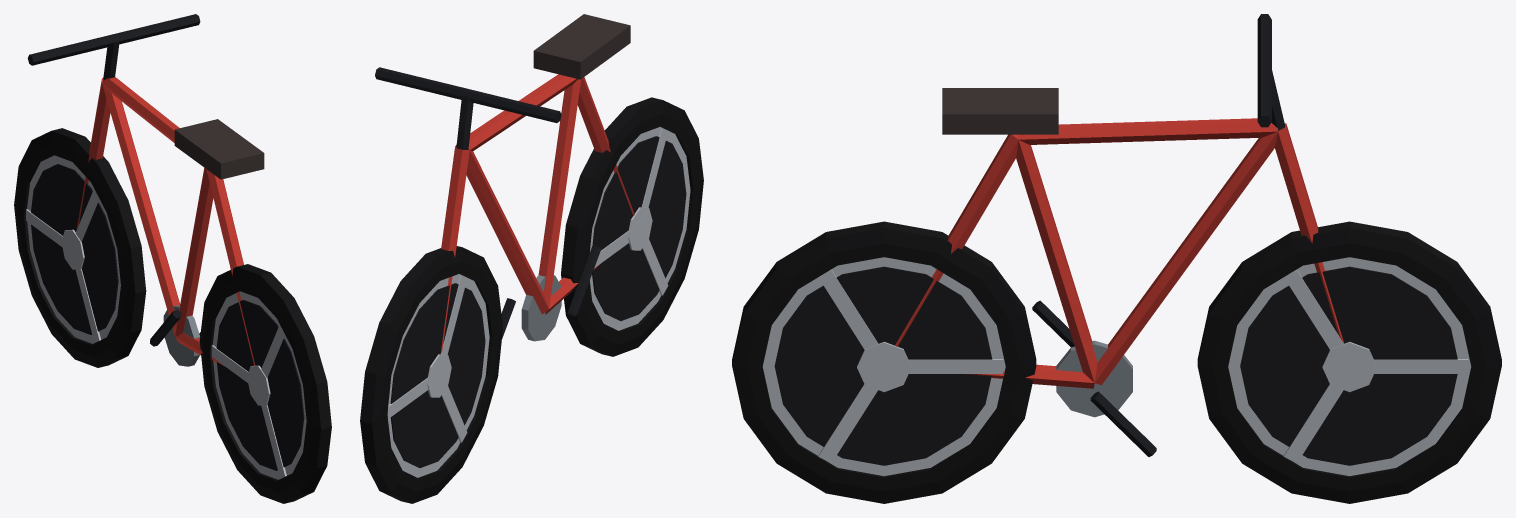
Rendered from bicycle.glb.
3 views of the same model, side by side, from view 1: azimuth 30°, elevation 25°; view 2: azimuth 150°, elevation 25°; view 3: azimuth 270°, elevation 25° (orthographic). The views are drawn at different scales.
Visible parts, largest first — view 1: bicycle_Wheel_R, bicycle_Wheel_F, bicycle_Body; view 2: bicycle_Wheel_F, bicycle_Wheel_R, bicycle_Body; view 3: bicycle_Wheel_F, bicycle_Wheel_R, bicycle_Body.
Boxes of the visible parts, <box> form: bicycle_Wheel_R: <box>199,264,331,503</box>; bicycle_Wheel_F: <box>14,128,146,367</box>; bicycle_Body: <box>27,14,264,366</box>; bicycle_Wheel_F: <box>360,246,502,503</box>; bicycle_Wheel_R: <box>561,97,703,356</box>; bicycle_Body: <box>375,14,634,353</box>; bicycle_Wheel_F: <box>1197,221,1501,503</box>; bicycle_Wheel_R: <box>732,221,1036,503</box>; bicycle_Body: <box>895,14,1344,456</box>.
Size of the model in its own units: 0.54 by 1.07 by 1.72.
